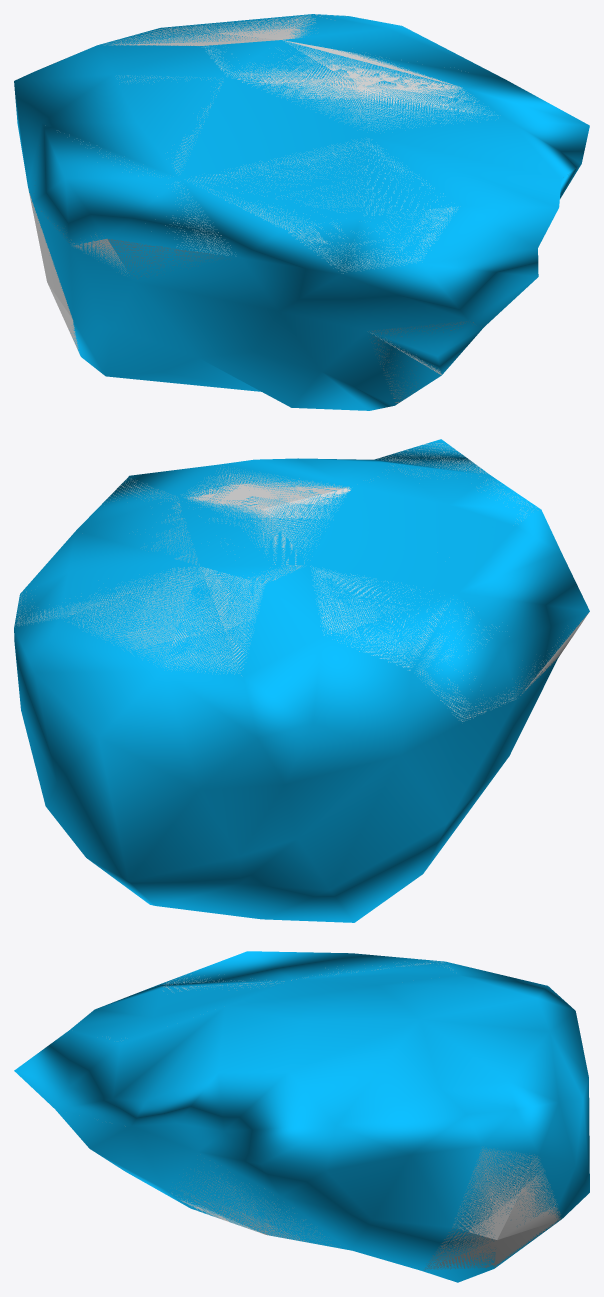
The model's file is PF_Rock_Overhang.glb.
3 renders of one model, top to bottom at view 1: azimuth 30°, elevation 25°; view 2: azimuth 150°, elevation 25°; view 3: azimuth 270°, elevation 25°, orthographic. The views are drawn at different scales.
Visible parts, largest first — view 1: SM_Rock_Overhang-gcc-stone, SM_Rock_Overhang; view 2: SM_Rock_Overhang-gcc-stone, SM_Rock_Overhang; view 3: SM_Rock_Overhang-gcc-stone, SM_Rock_Overhang.
Boxes of the visible parts, left/top/right/bottom form: SM_Rock_Overhang-gcc-stone: left=14, top=14, right=589, bottom=410; SM_Rock_Overhang: left=28, top=14, right=497, bottom=403; SM_Rock_Overhang-gcc-stone: left=14, top=439, right=589, bottom=922; SM_Rock_Overhang: left=15, top=443, right=588, bottom=721; SM_Rock_Overhang-gcc-stone: left=14, top=951, right=589, bottom=1282; SM_Rock_Overhang: left=109, top=959, right=561, bottom=1270.
Size of the model in its own units: 12.19 by 7.95 by 15.82.
